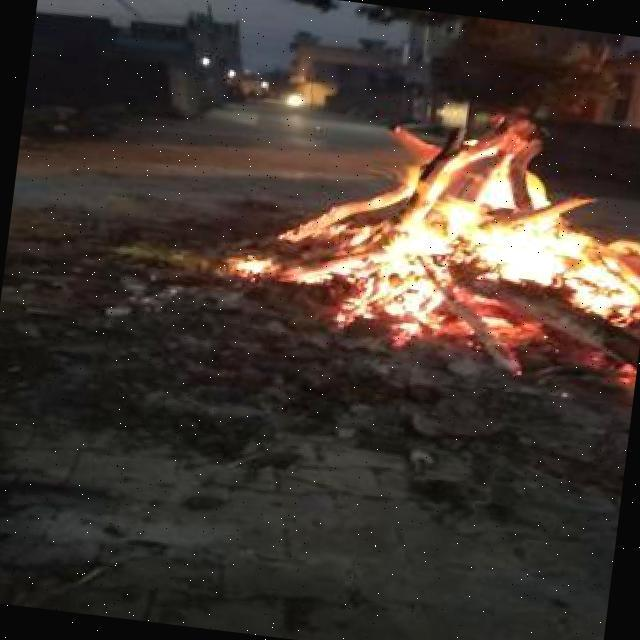Fire: (214, 41, 640, 367)
